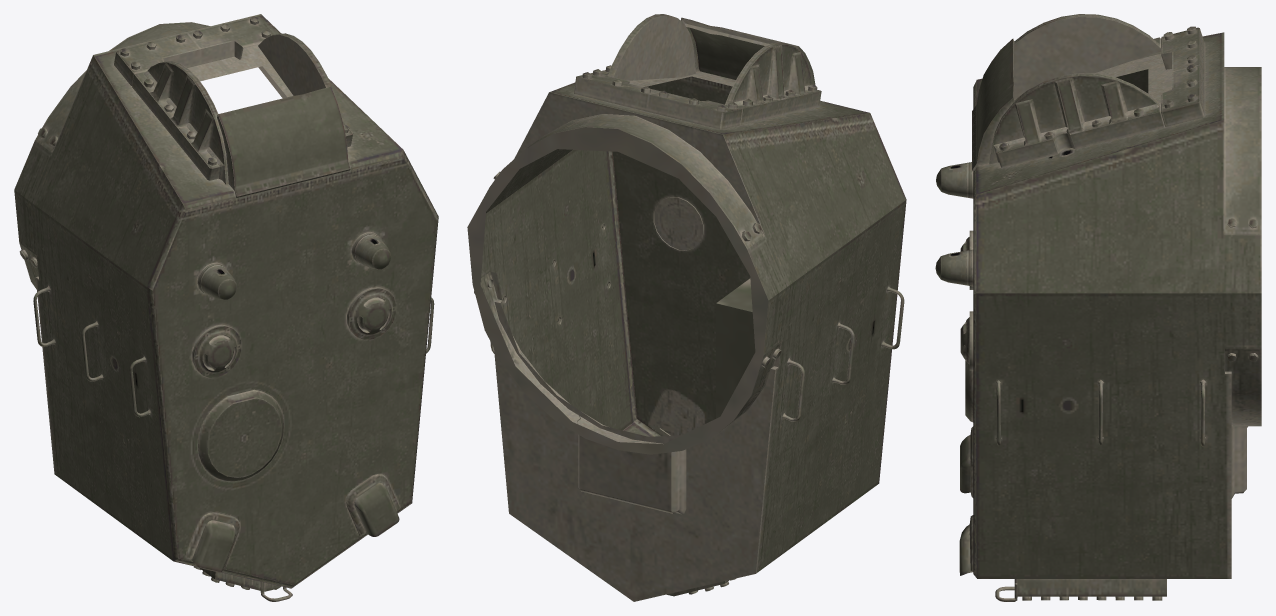
The model's file is Turret_01.glb.
3 views of the same model, side by side, from view 1: azimuth 30°, elevation 25°; view 2: azimuth 150°, elevation 25°; view 3: azimuth 270°, elevation 25° (orthographic). The views are drawn at different scales.
Visible parts, largest first — view 1: set_0_group_0; view 2: set_0_group_0; view 3: set_0_group_0.
Boxes of the visible parts, x1,y1,x2,y2 form: set_0_group_0: (14, 14, 438, 601); set_0_group_0: (467, 14, 906, 601); set_0_group_0: (935, 14, 1261, 601).
Bounding box in the file's own units: 2.03 × 3.26 × 1.75.
1 material, 1 textured.
